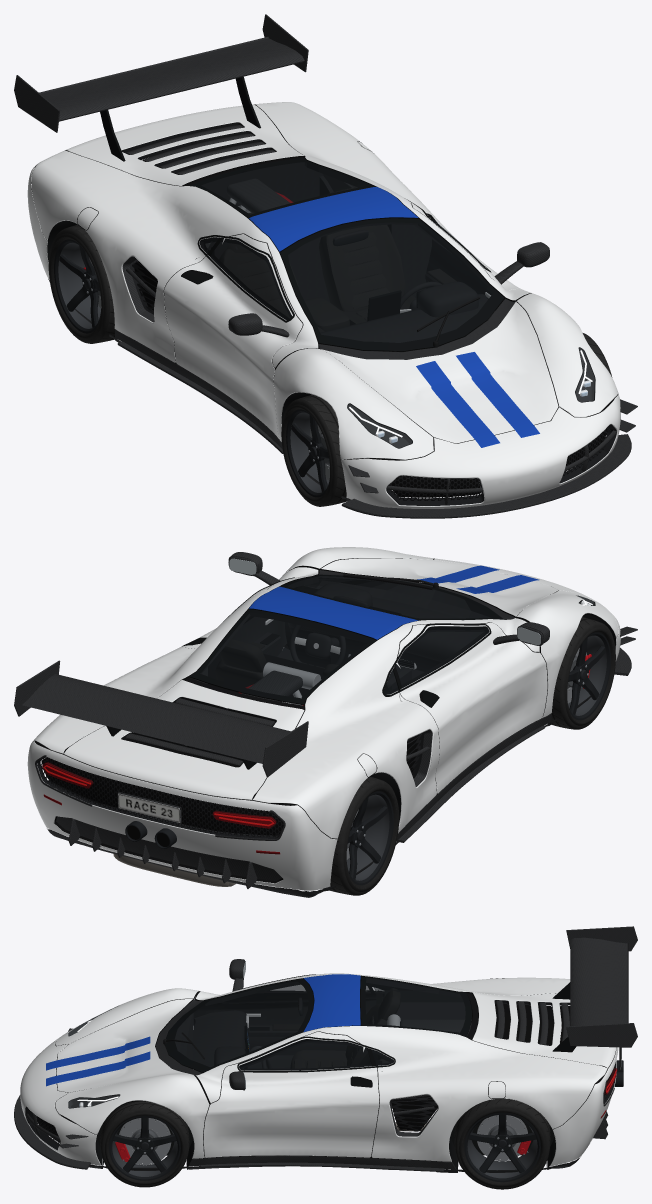
File: gt-race-supercar.glb
3 views of the same model, one above another, from view 1: azimuth 30°, elevation 25°; view 2: azimuth 150°, elevation 25°; view 3: azimuth 270°, elevation 25° (orthographic). The views are drawn at different scales.
Parts seen in each view (by area): view 1: Body, Wheel_RR, Wheel_FR; view 2: Body, Wheel_RR, Wheel_FR, Steering_Wheel; view 3: Body, Wheel_RL, Wheel_FL.
Boxes of the visible parts, x1,y1,x2,y2 form: Body: (14,14,637,518); Wheel_RR: (48,224,114,343); Wheel_FR: (281,395,350,506); Body: (14,547,637,897); Wheel_RR: (323,776,399,895); Wheel_FR: (548,617,615,729); Steering_Wheel: (289,625,345,664); Body: (14,926,637,1172); Wheel_RL: (454,1098,550,1189); Wheel_FL: (100,1101,189,1187).
Size of the model in its own units: 2.15 by 1.3 by 4.61.
59 materials, 12 textured.
